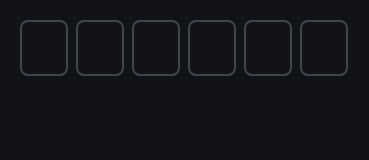
Scenario: OtpInput › should support pasting a full 6-digit OTP
Click the field named "Digit 1 of 6" at (44, 48), box left=20, top=20, right=68, bottom=76
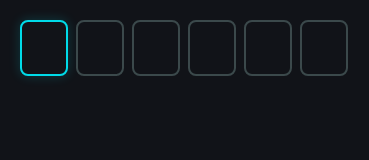
Type keys "123456"
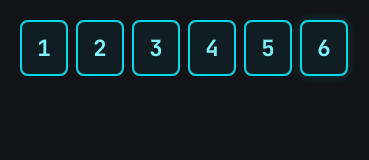
Expected: the field named "Digit 1 of 6" holds "1", left=20, top=20, right=68, bottom=76
Expected: the field named "Digit 2 of 6" holds "2", left=76, top=20, right=124, bottom=76
Expected: the field named "Digit 3 of 6" holds "3", left=132, top=20, right=180, bottom=76
